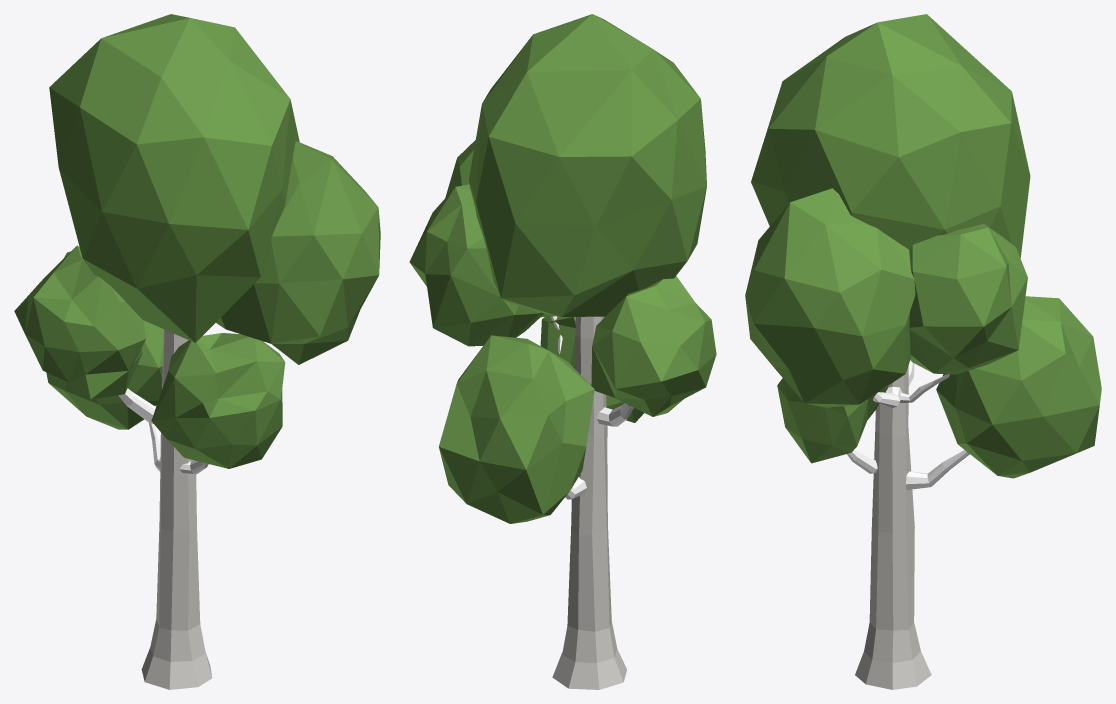
The model's file is bereza.glb.
The picture shows the model from 3 angles, left to right: view 1: azimuth 30°, elevation 25°; view 2: azimuth 150°, elevation 25°; view 3: azimuth 270°, elevation 25°; orthographic projection.
Parts seen in each view (by area): view 1: Hojas4_6, Tronco4_4, Ramas4_5; view 2: Hojas4_6, Tronco4_4, Ramas4_5; view 3: Hojas4_6, Tronco4_4, Ramas4_5.
Boxes of the visible parts, <box> form: Hojas4_6: <box>14,14,380,468</box>; Tronco4_4: <box>141,329,212,689</box>; Ramas4_5: <box>118,388,208,474</box>; Hojas4_6: <box>409,14,716,523</box>; Tronco4_4: <box>552,316,626,689</box>; Ramas4_5: <box>551,316,633,499</box>; Hojas4_6: <box>745,14,1101,478</box>; Tronco4_4: <box>855,366,931,689</box>; Ramas4_5: <box>847,360,969,489</box>.
Bounding box in the file's own units: 6.44 × 13.78 × 6.81.
